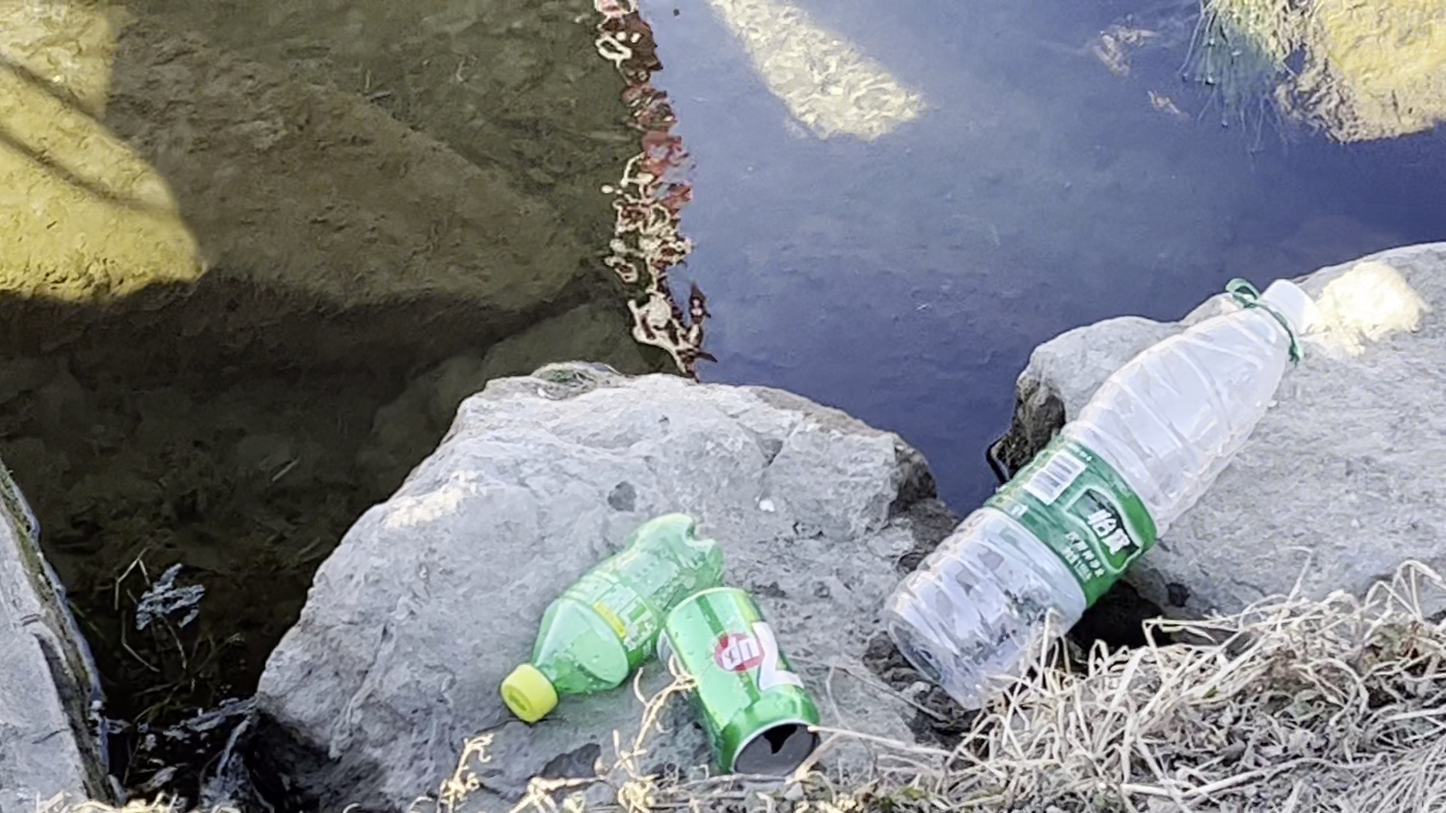floating_object: (881, 277, 1316, 712), (500, 513, 720, 723), (657, 587, 823, 780)
